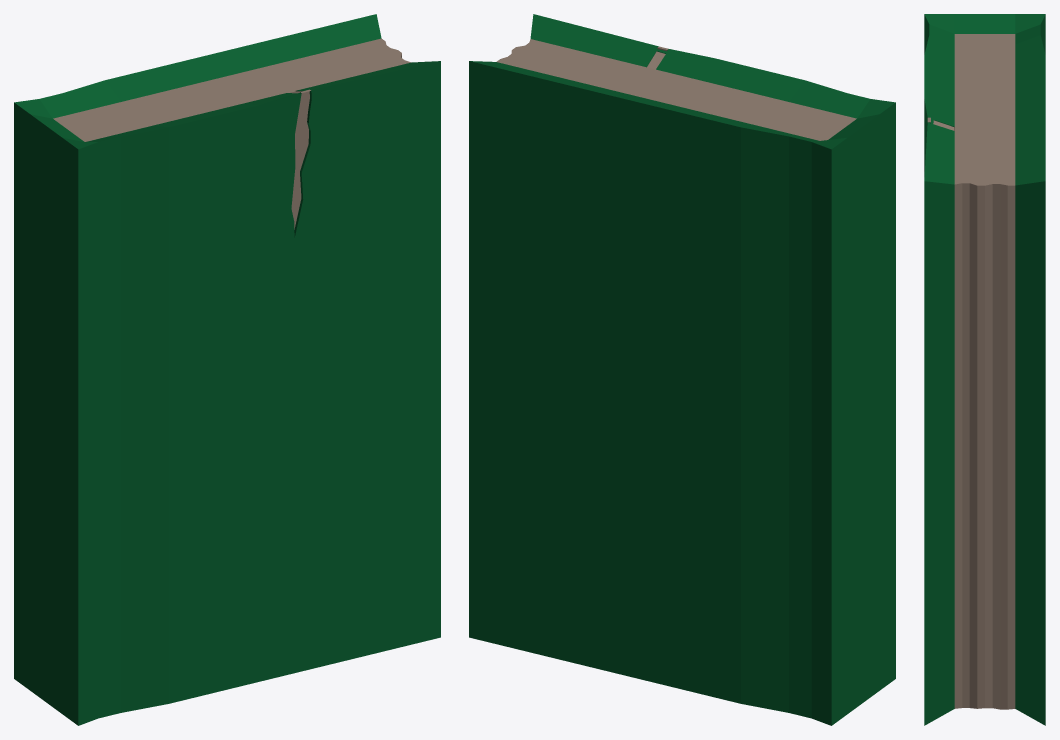
The model's file is book3.fbx.
The picture shows the model from 3 angles, left to right: view 1: azimuth 30°, elevation 25°; view 2: azimuth 150°, elevation 25°; view 3: azimuth 270°, elevation 25°; orthographic projection. The views are drawn at different scales.
Parts seen in each view (by area): view 1: Cube; view 2: Cube; view 3: Cube.
Boxes of the visible parts, left/top/right/bottom form: Cube: left=14, top=14, right=440, bottom=725; Cube: left=469, top=14, right=895, bottom=725; Cube: left=924, top=14, right=1045, bottom=725.
Size of the model in its own units: 200 by 304 by 61.41.
